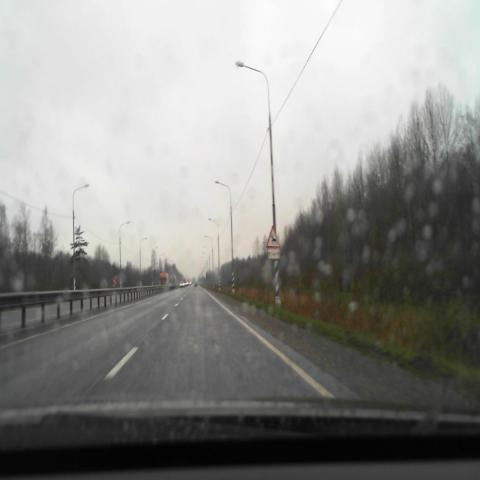1_27: (266, 226, 281, 248)
